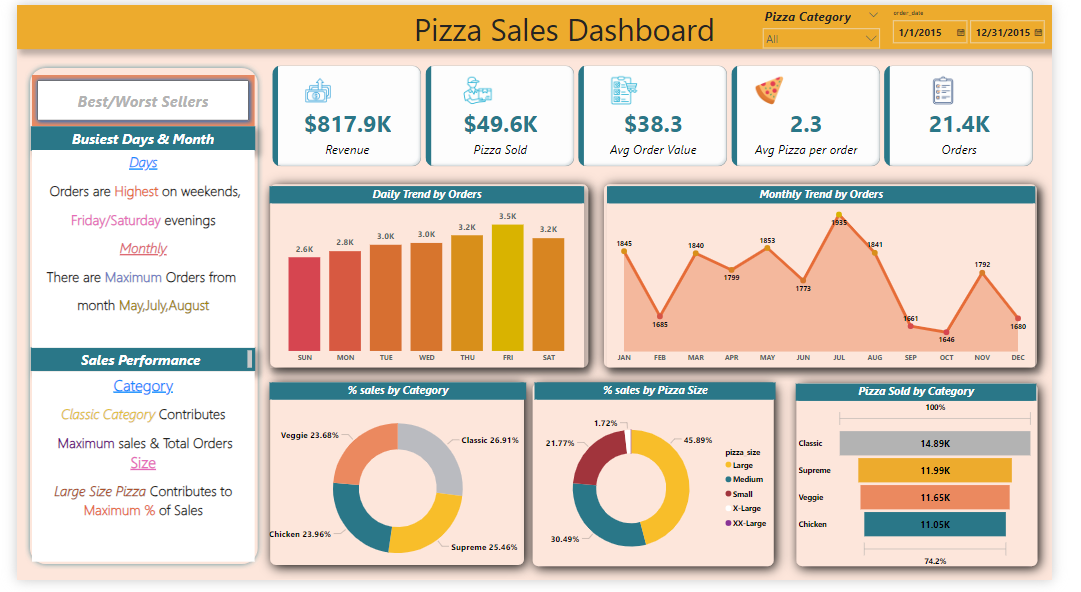

The page's visual inventory and layout, read from the dashboard file:
{"tool":"powerbi","page":{"name":"Home","canvas":[1800,1000],"ordinal":0},"visuals":[{"type":"group","id":"g1","title":"Group 3","box":[0,0,1911.7,1000],"z":0},{"type":"group","id":"g2","title":"Group 1","box":[0,0,1911.7,998.3],"z":0,"group":"g1"},{"type":"textbox","box":[0,0,1911.7,76.7],"z":0,"group":"g2"},{"type":"columnChart","title":"Daily Trend by Orders","fields":{"Y":["pizza_sales.Total orders"],"Category":["pizza_sales.Day short"]},"box":[440,315,547.6,316.7],"z":0,"group":"g3"},{"type":"cardVisual","fields":{"Data":["pizza_sales.total revenue","pizza_sales.Avg order value","pizza_sales.Average Order Value","pizza_sales.Average Pizza per order","pizza_sales.Total orders"]},"box":[440,100,1333.3,186.7],"z":1000,"group":"g2"},{"type":"textbox","box":[24.6,209.8,390.2,42.6],"z":1000},{"type":"group","id":"g3","title":"Group 2","box":[440,315,1360,685],"z":1000,"group":"g1"},{"type":"shape","box":[872.9,631.7,469.3,368.3],"z":1000,"group":"g3"},{"type":"shape","box":[13.3,100,415,881.7],"z":2000,"group":"g1"},{"type":"shape","box":[415,286.7,603.3,368.3],"z":2000,"group":"g2"},{"type":"textbox","box":[23,596.7,390.2,41],"z":2000},{"type":"shape","box":[1330.7,631.7,469.3,368.3],"z":2000,"group":"g3"},{"type":"slicer","fields":{"Values":["pizza_sales.pizza_category"]},"box":[1286.7,0,223.3,75],"z":3000},{"type":"areaChart","title":"Monthly Trend by Orders","fields":{"Y":["pizza_sales.Total orders"],"Category":["pizza_sales.Month short"]},"box":[1026.7,315,745,316.7],"z":3000,"group":"g3"},{"type":"shape","box":[415,630,491.7,368.3],"z":3000,"group":"g2"},{"type":"slicer","fields":{"Values":["pizza_sales.order_date"]},"box":[1511.7,1.7,288.3,86.7],"z":4000},{"type":"donutChart","title":"% sales by Category","fields":{"Category":["pizza_sales.pizza_category"],"Y":["pizza_sales.total revenue"]},"box":[440,656.7,446.7,343.3],"z":4000,"group":"g3"},{"type":"donutChart","title":"% sales by Pizza Size","fields":{"Y":["pizza_sales.total revenue"],"Category":["pizza_sales.pizza_size"]},"box":[900.4,656.7,419.6,343.3],"z":5000,"group":"g3"},{"type":"shape","box":[996.7,286.7,803.3,368.3],"z":6000,"group":"g2"},{"type":"funnel","title":"Pizza Sold by Category","fields":{"Category":["pizza_sales.pizza_category"],"Y":["Sum(pizza_sales.quantity)"]},"box":[1355,658.3,418.3,323.3],"z":6000,"group":"g3"},{"type":"pageNavigator","box":[26.2,121.3,386.9,88.5],"z":7000},{"type":"textbox","box":[26.2,252.5,386.9,344.3],"z":7003},{"type":"textbox","box":[26.2,637.7,386.9,331.1],"z":7004}]}

Visuals, with their boxes in screenshot pixels (x1, y1, x2, y2), scaled from the page's 1800x1000 canvas onto the 1081x592 screenshot:
"Group 3" group: 0, 0, 1080, 591
"Group 1" group: 0, 0, 1080, 591
textbox: 0, 0, 1080, 45
"Daily Trend by Orders" columnChart: 264, 186, 593, 374
cardVisual - pizza_sales.total revenue x pizza_sales.Avg order value: 264, 59, 1065, 170
textbox: 15, 124, 249, 149
"Group 2" group: 264, 186, 1080, 591
shape: 524, 374, 806, 591
shape: 8, 59, 257, 581
shape: 249, 170, 612, 388
textbox: 14, 353, 248, 378
shape: 799, 374, 1080, 591
slicer - pizza_sales.pizza_category: 773, 0, 907, 44
"Monthly Trend by Orders" areaChart: 617, 186, 1064, 374
shape: 249, 373, 545, 591
slicer - pizza_sales.order_date: 908, 1, 1080, 52
"% sales by Category" donutChart: 264, 389, 533, 591
"% sales by Pizza Size" donutChart: 541, 389, 793, 591
shape: 599, 170, 1080, 388
"Pizza Sold by Category" funnel: 814, 390, 1065, 581
pageNavigator: 16, 72, 248, 124
textbox: 16, 149, 248, 353
textbox: 16, 378, 248, 574
